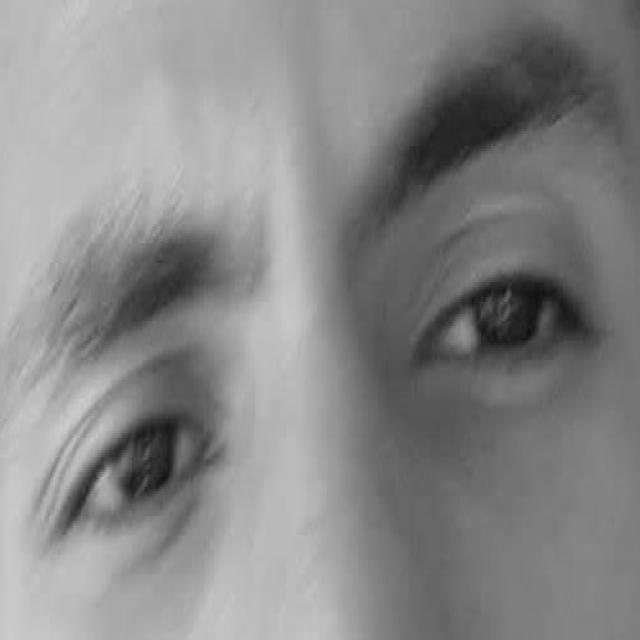real: (52, 144, 602, 582)
